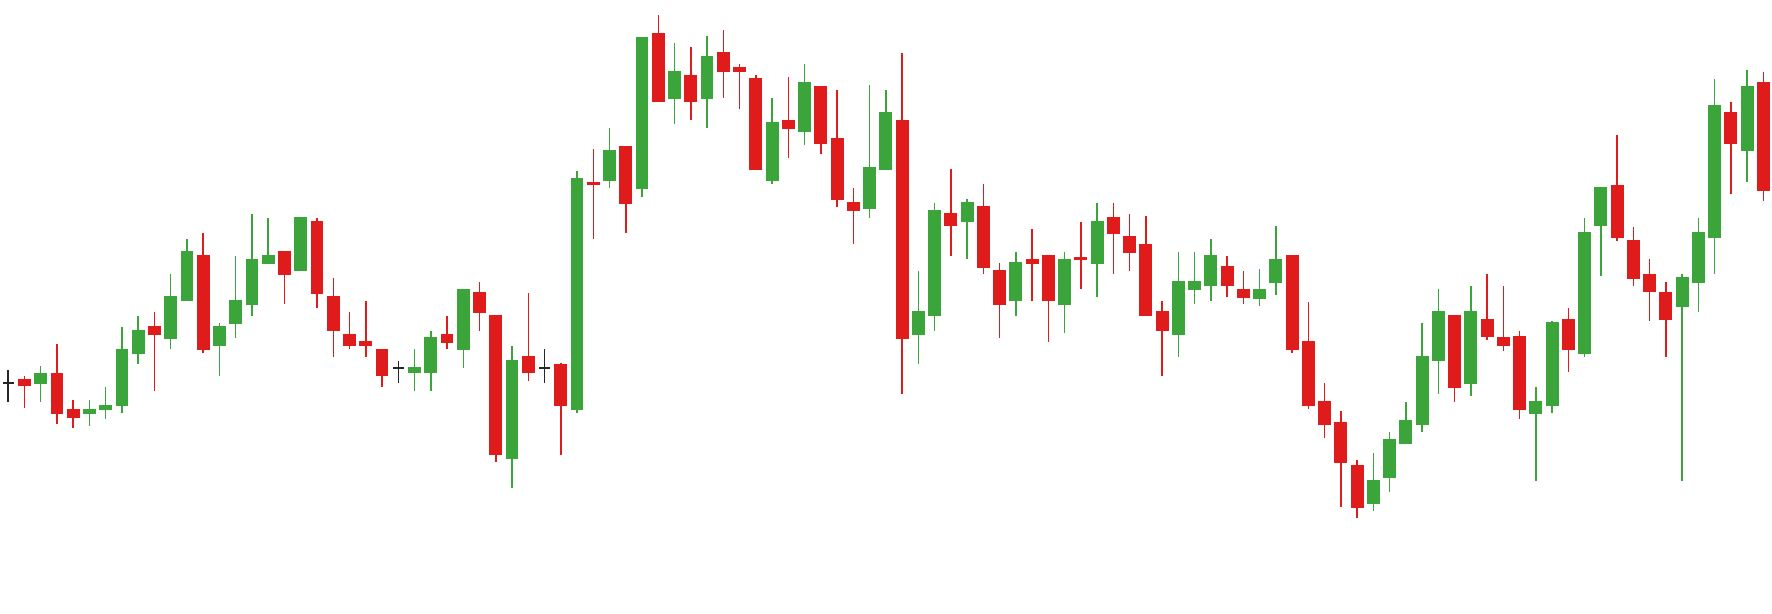buy: (375, 318, 522, 491), (1447, 325, 1561, 479)
sell: (780, 49, 912, 181), (1202, 225, 1283, 297)
